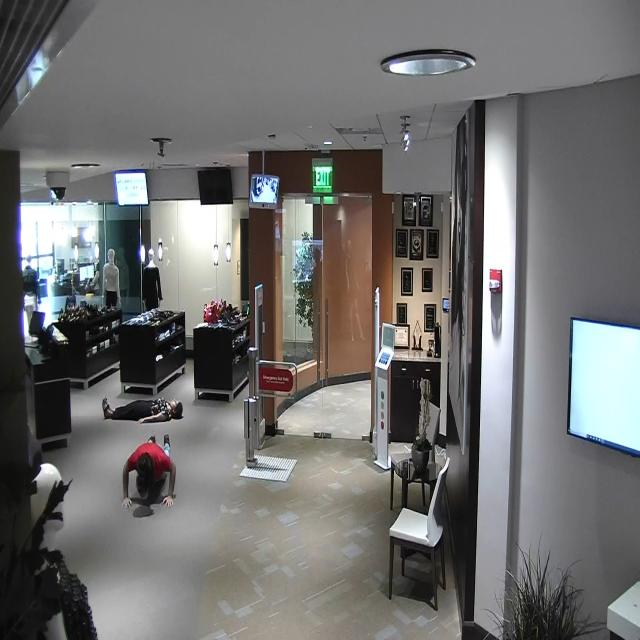fall: (117, 431, 185, 522), (95, 379, 189, 431)
